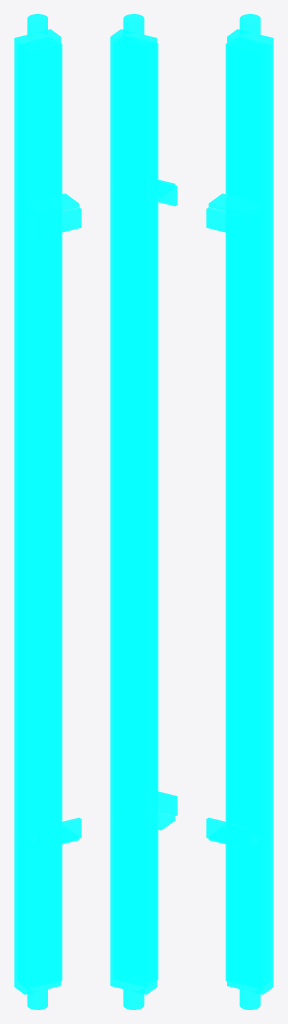
Rendered from VMan_StatusArray.glb.
3 views of the same model, side by side, from view 1: azimuth 30°, elevation 25°; view 2: azimuth 150°, elevation 25°; view 3: azimuth 330°, elevation 25° (orthographic).
Visible parts, largest first — view 1: VMan_StatusArray; view 2: VMan_StatusArray; view 3: VMan_StatusArray.
Boxes of the visible parts, box(x1,y1,x2,y2) form: VMan_StatusArray: box(14, 14, 81, 1009); VMan_StatusArray: box(110, 14, 177, 1009); VMan_StatusArray: box(206, 14, 273, 1009).
Size of the model in its own units: 0.07 by 1.56 by 0.0802.
